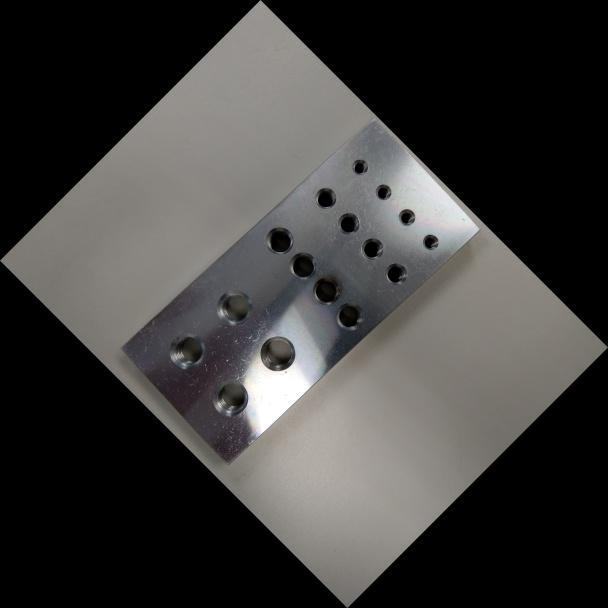hole: (206, 279, 261, 334), (204, 371, 258, 425), (250, 326, 304, 379), (160, 324, 213, 377), (258, 219, 301, 262), (305, 268, 348, 311), (282, 244, 325, 286), (329, 295, 370, 337), (331, 206, 366, 240), (355, 231, 389, 265), (379, 256, 413, 290), (309, 180, 342, 214), (347, 154, 373, 179), (394, 204, 419, 229), (371, 179, 395, 204), (418, 229, 442, 253)
